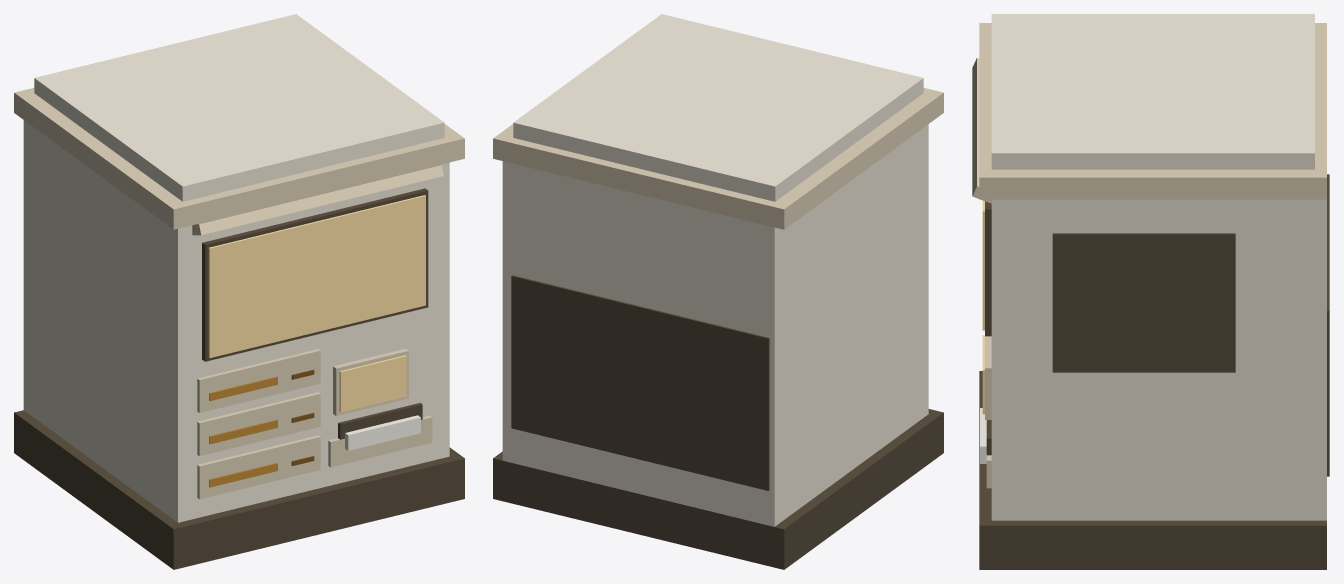
The model's file is stamp_history.obj.
3 views of the same model, side by side, from view 1: azimuth 30°, elevation 25°; view 2: azimuth 150°, elevation 25°; view 3: azimuth 270°, elevation 25° (orthographic). The views are drawn at different scales.
Visible parts, largest first — view 1: stamp_history_e01, stamp_history_e03, stamp_history_e07, stamp_history_e00, stamp_history_e02, stamp_history_e08, stamp_history_e14, stamp_history_e11, stamp_history_e06, stamp_history_e05, stamp_history_e21, stamp_history_e17 (+6 smaller); view 2: stamp_history_e01, stamp_history_e03, stamp_history_e23, stamp_history_e00, stamp_history_e02; view 3: stamp_history_e01, stamp_history_e03, stamp_history_e22, stamp_history_e00, stamp_history_e02, stamp_history_e05, stamp_history_e06, stamp_history_e23, stamp_history_e20.
Boxes of the visible parts, box(x1,y1,x2,y2) form: stamp_history_e01: box(23, 120, 449, 522); stamp_history_e03: box(34, 14, 444, 201); stamp_history_e07: box(208, 195, 425, 357); stamp_history_e00: box(14, 410, 464, 569); stamp_history_e02: box(14, 88, 464, 229); stamp_history_e08: box(197, 435, 320, 499); stamp_history_e14: box(197, 349, 320, 412); stamp_history_e11: box(197, 392, 320, 456); stamp_history_e06: box(202, 188, 428, 361); stamp_history_e05: box(192, 165, 443, 235); stamp_history_e21: box(339, 355, 406, 412); stamp_history_e17: box(328, 415, 432, 467); stamp_history_e01: box(502, 124, 928, 526); stamp_history_e03: box(513, 14, 923, 201); stamp_history_e23: box(511, 275, 769, 490); stamp_history_e00: box(493, 409, 943, 569); stamp_history_e02: box(493, 88, 943, 229); stamp_history_e01: box(991, 199, 1326, 520); stamp_history_e03: box(991, 14, 1314, 169); stamp_history_e22: box(1052, 233, 1235, 372); stamp_history_e00: box(979, 371, 1326, 569); stamp_history_e02: box(979, 23, 1326, 199); stamp_history_e05: box(972, 57, 991, 203); stamp_history_e06: box(985, 201, 991, 336); stamp_history_e23: box(1327, 174, 1329, 476); stamp_history_e20: box(985, 336, 991, 419).
Size of the model in its own units: 0.75 by 0.925 by 0.7319.
